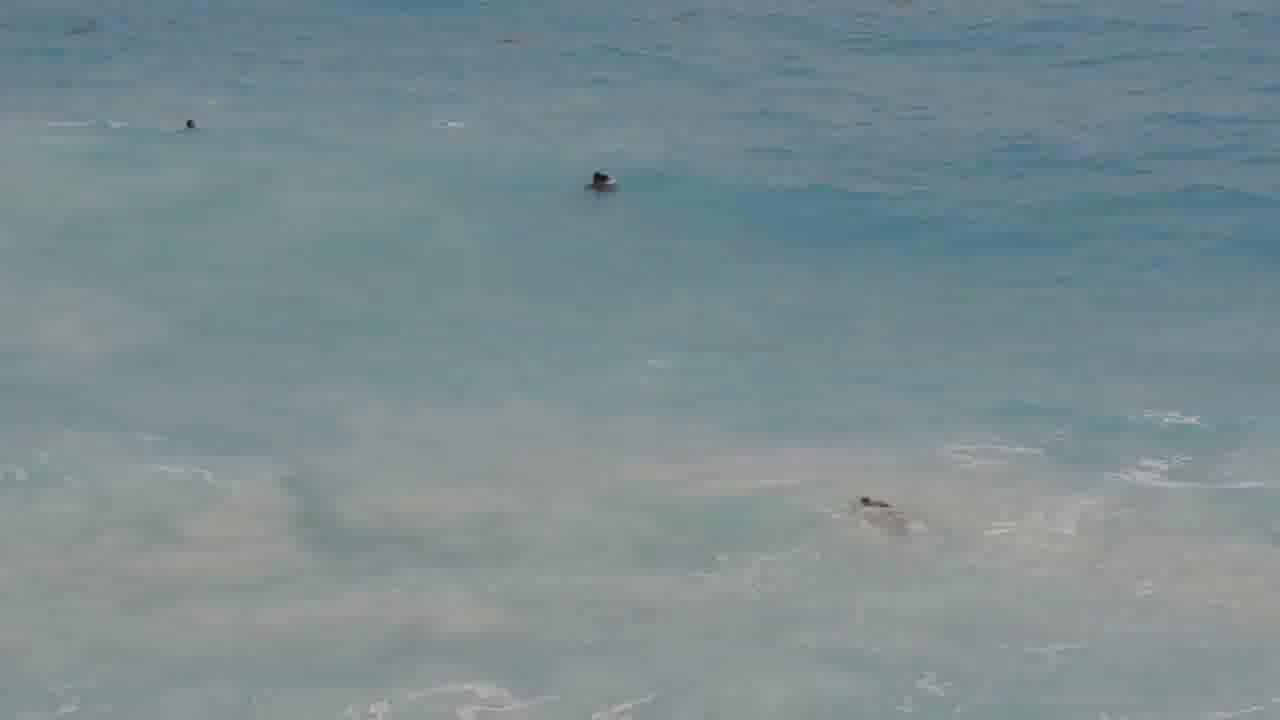human: (581, 164, 620, 193)
